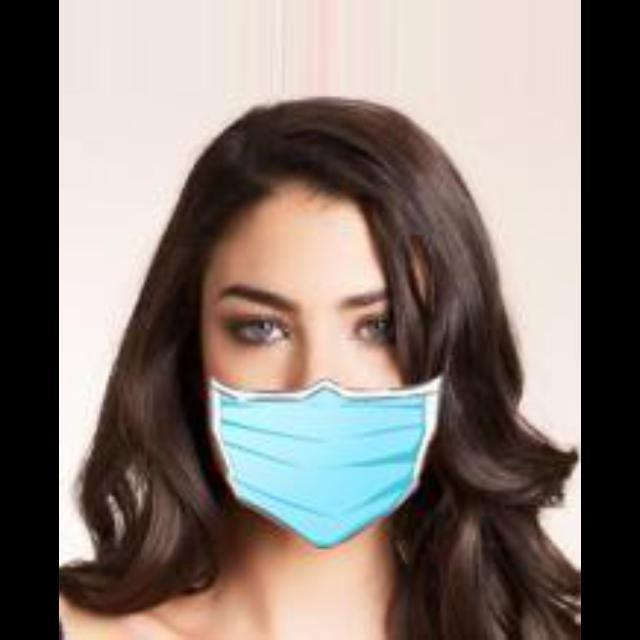suspicion: (190, 144, 492, 528)
